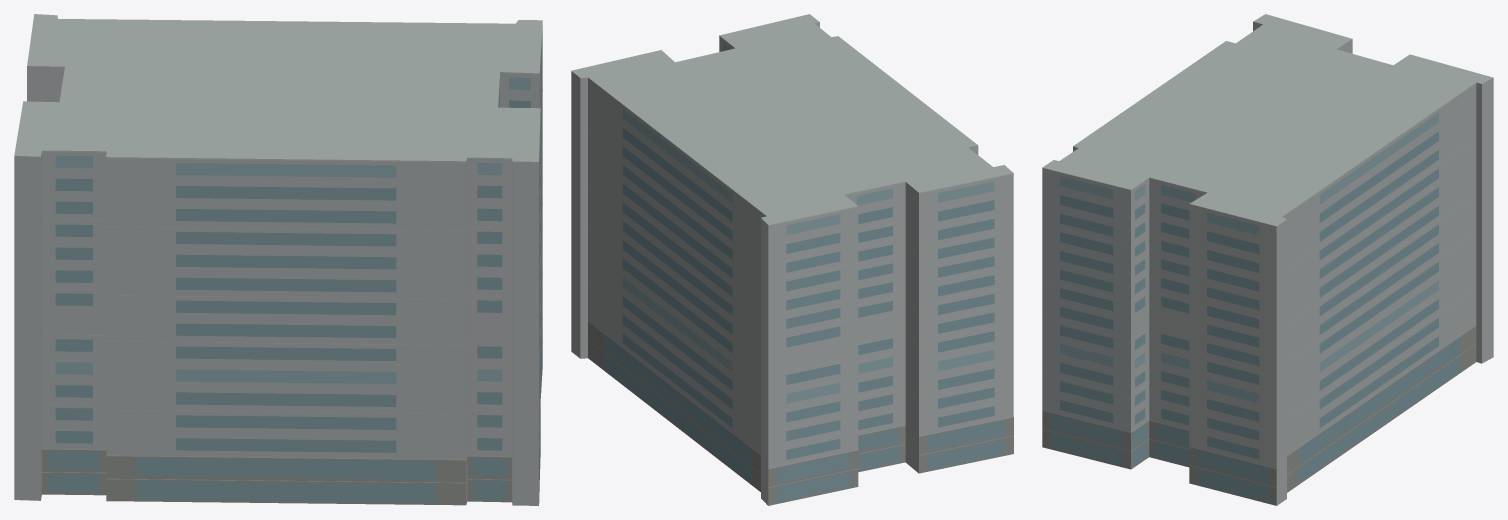
The model's file is survey-upis-32731269.glb.
3 views of the same model, side by side, from view 1: azimuth 30°, elevation 25°; view 2: azimuth 150°, elevation 25°; view 3: azimuth 270°, elevation 25° (orthographic). The views are drawn at different scales.
Parts seen in each view (by area): view 1: survey-upis-32731269.tmp; view 2: survey-upis-32731269.tmp; view 3: survey-upis-32731269.tmp.
Part boxes in pixels (x1=…): survey-upis-32731269.tmp: x1=14, y1=14, x2=542, y2=505; survey-upis-32731269.tmp: x1=571, y1=14, x2=1013, y2=505; survey-upis-32731269.tmp: x1=1042, y1=14, x2=1493, y2=505.
Bounding box in the file's own units: 100 × 61.45 × 89.95.
